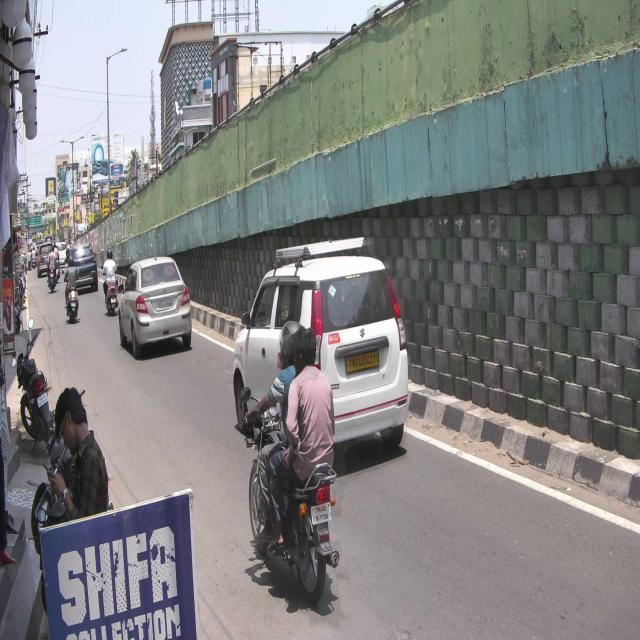double_rider: (237, 318, 339, 604)
